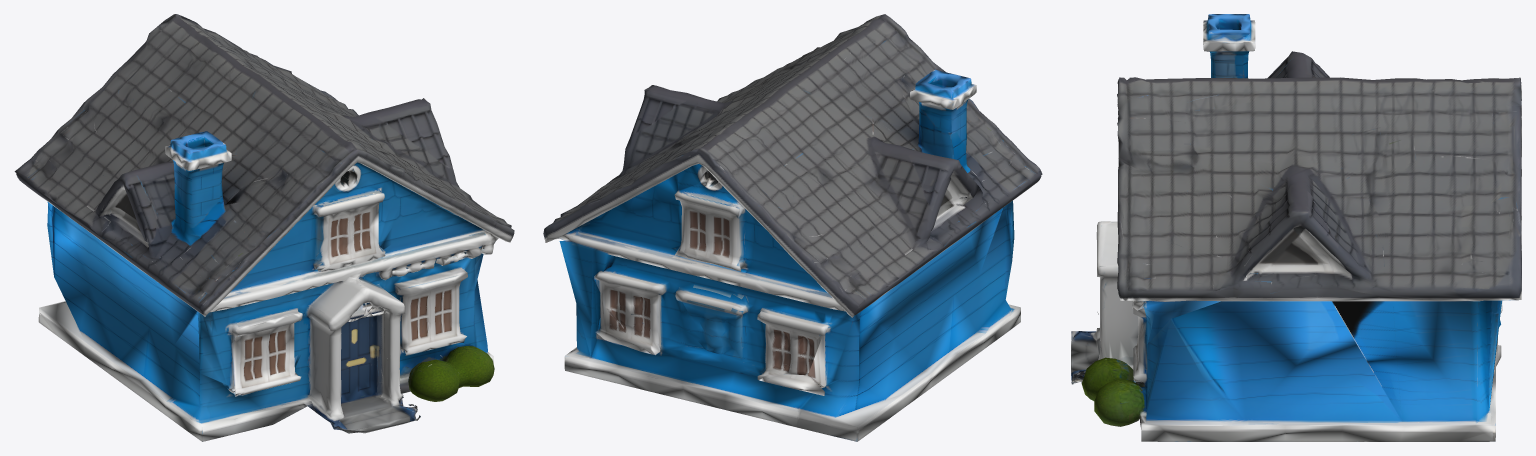
Rendered from Meshy_AI_Blue_Cottage_0112155853_texture.fbx.
3 views of the same model, side by side, from view 1: azimuth 30°, elevation 25°; view 2: azimuth 150°, elevation 25°; view 3: azimuth 270°, elevation 25° (orthographic). The views are drawn at different scales.
Parts seen in each view (by area): view 1: Mesh0; view 2: Mesh0; view 3: Mesh0.
Boxes of the visible parts, left/top/right/bottom form: Mesh0: left=14, top=14, right=514, bottom=441; Mesh0: left=543, top=14, right=1042, bottom=441; Mesh0: left=1071, top=14, right=1521, bottom=441.
Size of the model in its own units: 169 by 134 by 191.
Materials: 1 (1 with a texture image).
